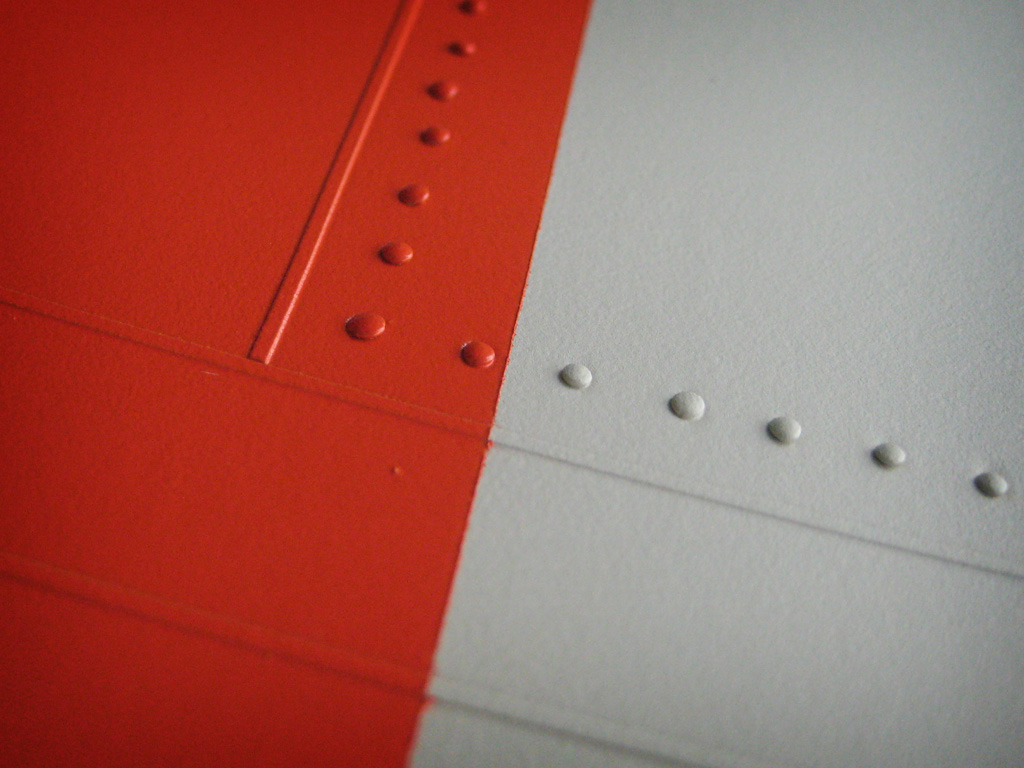rivet: (345, 309, 389, 342), (668, 390, 707, 423), (766, 414, 804, 444), (558, 362, 595, 391), (972, 471, 1009, 499), (461, 341, 498, 369), (378, 240, 416, 267), (872, 442, 908, 469), (398, 182, 431, 208), (428, 78, 463, 101), (419, 126, 453, 148), (448, 37, 479, 59), (458, 1, 489, 18)
